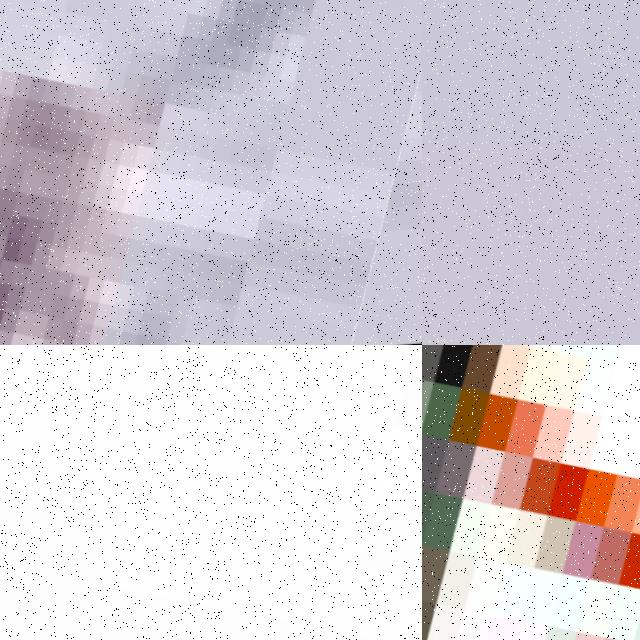0: (0, 0, 422, 345)
drone: (0, 345, 422, 640), (422, 345, 640, 640)
